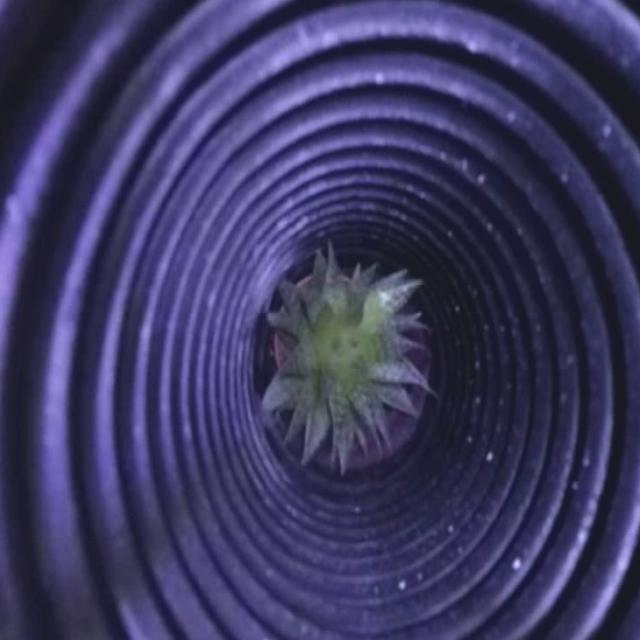leaf: (263, 255, 418, 468)
